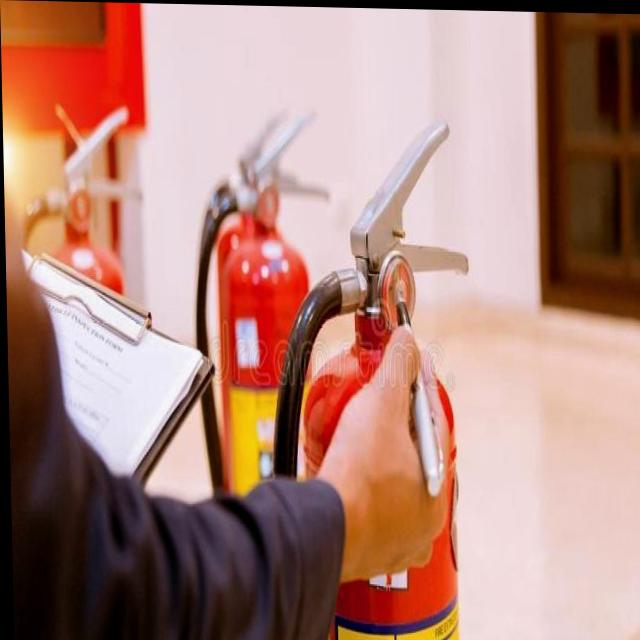FireExtinguisher: (262, 103, 482, 640), (11, 91, 160, 640), (193, 95, 343, 638)
